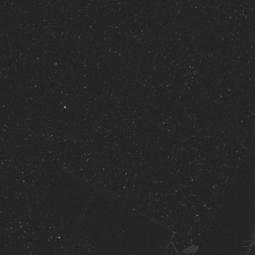xmm_newton: (85, 170, 209, 255)
